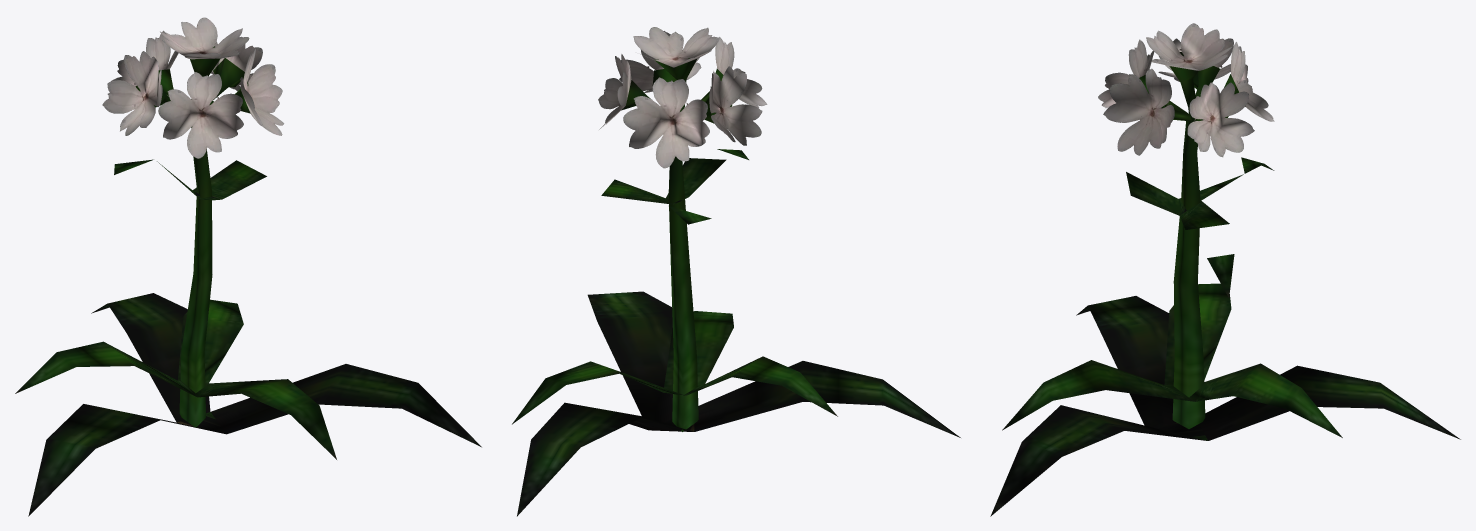
The model's file is ITPL_PERM_HERB.glb.
3 views of the same model, side by side, from view 1: azimuth 30°, elevation 25°; view 2: azimuth 150°, elevation 25°; view 3: azimuth 270°, elevation 25° (orthographic).
Visible parts, largest first — view 1: Mesh; view 2: Mesh; view 3: Mesh.
Boxes of the visible parts, box(x1,y1,x2,y2) form: Mesh: box(15, 17, 481, 516); Mesh: box(512, 27, 960, 516); Mesh: box(990, 23, 1460, 516).
Bounding box in the file's own units: 0.7228 × 0.6635 × 0.7155.
Materials: 2 (2 with a texture image).
